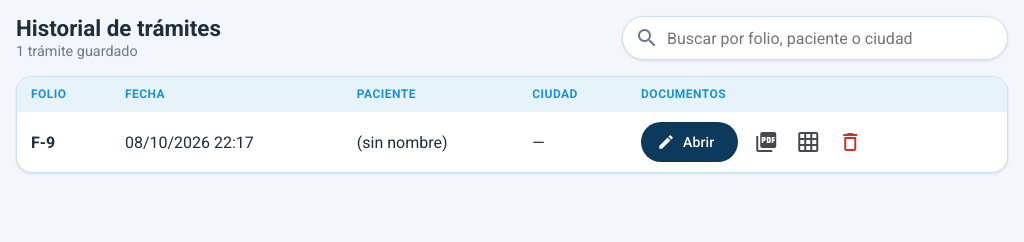
HistorialComponent › si eliminar() falla, conserva el trámite en la lista y muestra un aviso
Click the button named "Eliminar".
click(850, 142)  # box x1=830 y1=122 x2=870 y2=162
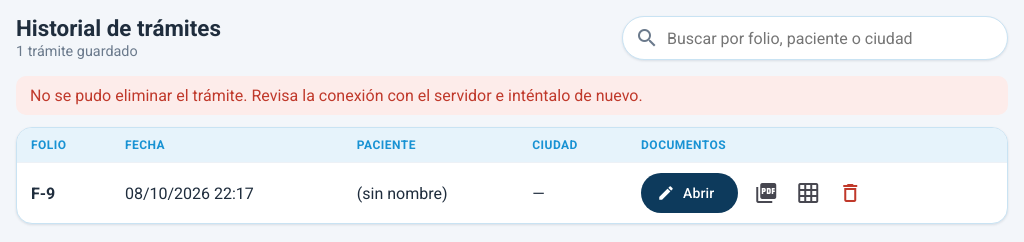
Result: the text "No se pudo eliminar el trámite" is shown at x1=30 y1=86 x2=643 y2=105
